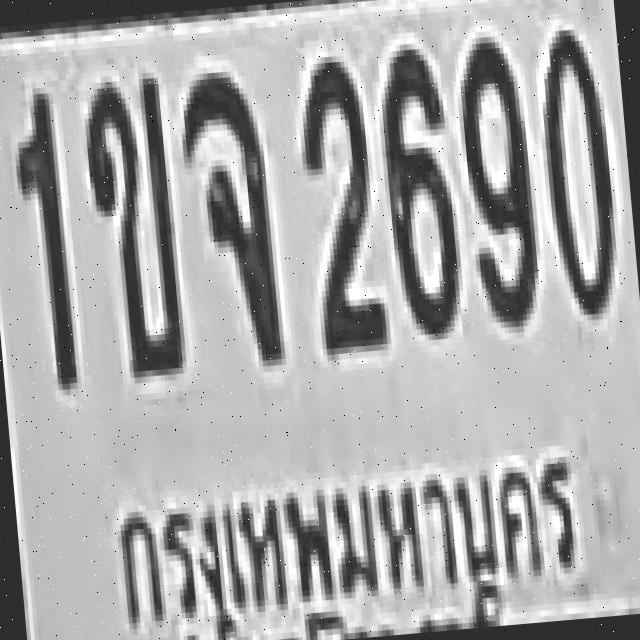0: (532, 21, 622, 317), (452, 34, 542, 330)
1: (6, 90, 78, 394)
11KhorKhai: (79, 75, 185, 376)
17ChorChan: (176, 66, 282, 368)
2: (293, 53, 387, 350)
6: (372, 43, 462, 340)
9: (452, 31, 542, 327)
Bangkok: (94, 438, 579, 629)
